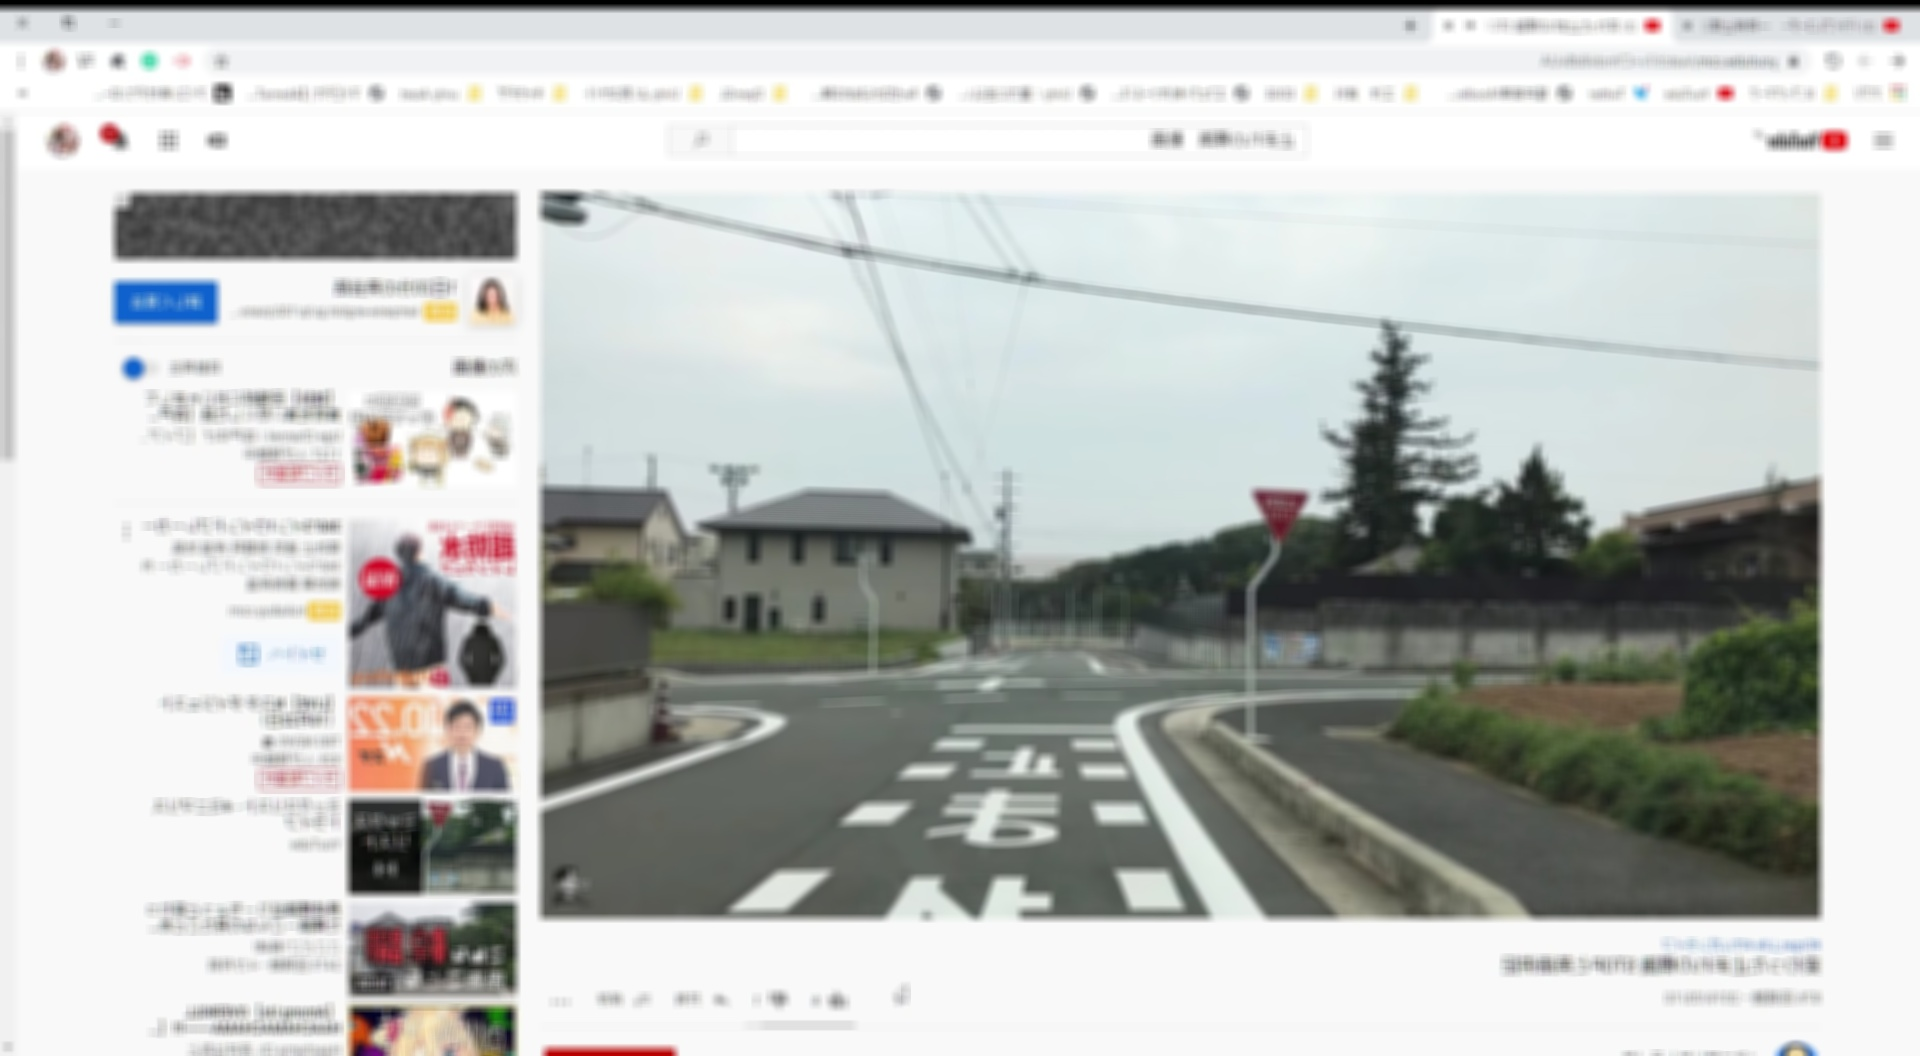Regulatory_sign_triangle: (1247, 477, 1312, 544)
